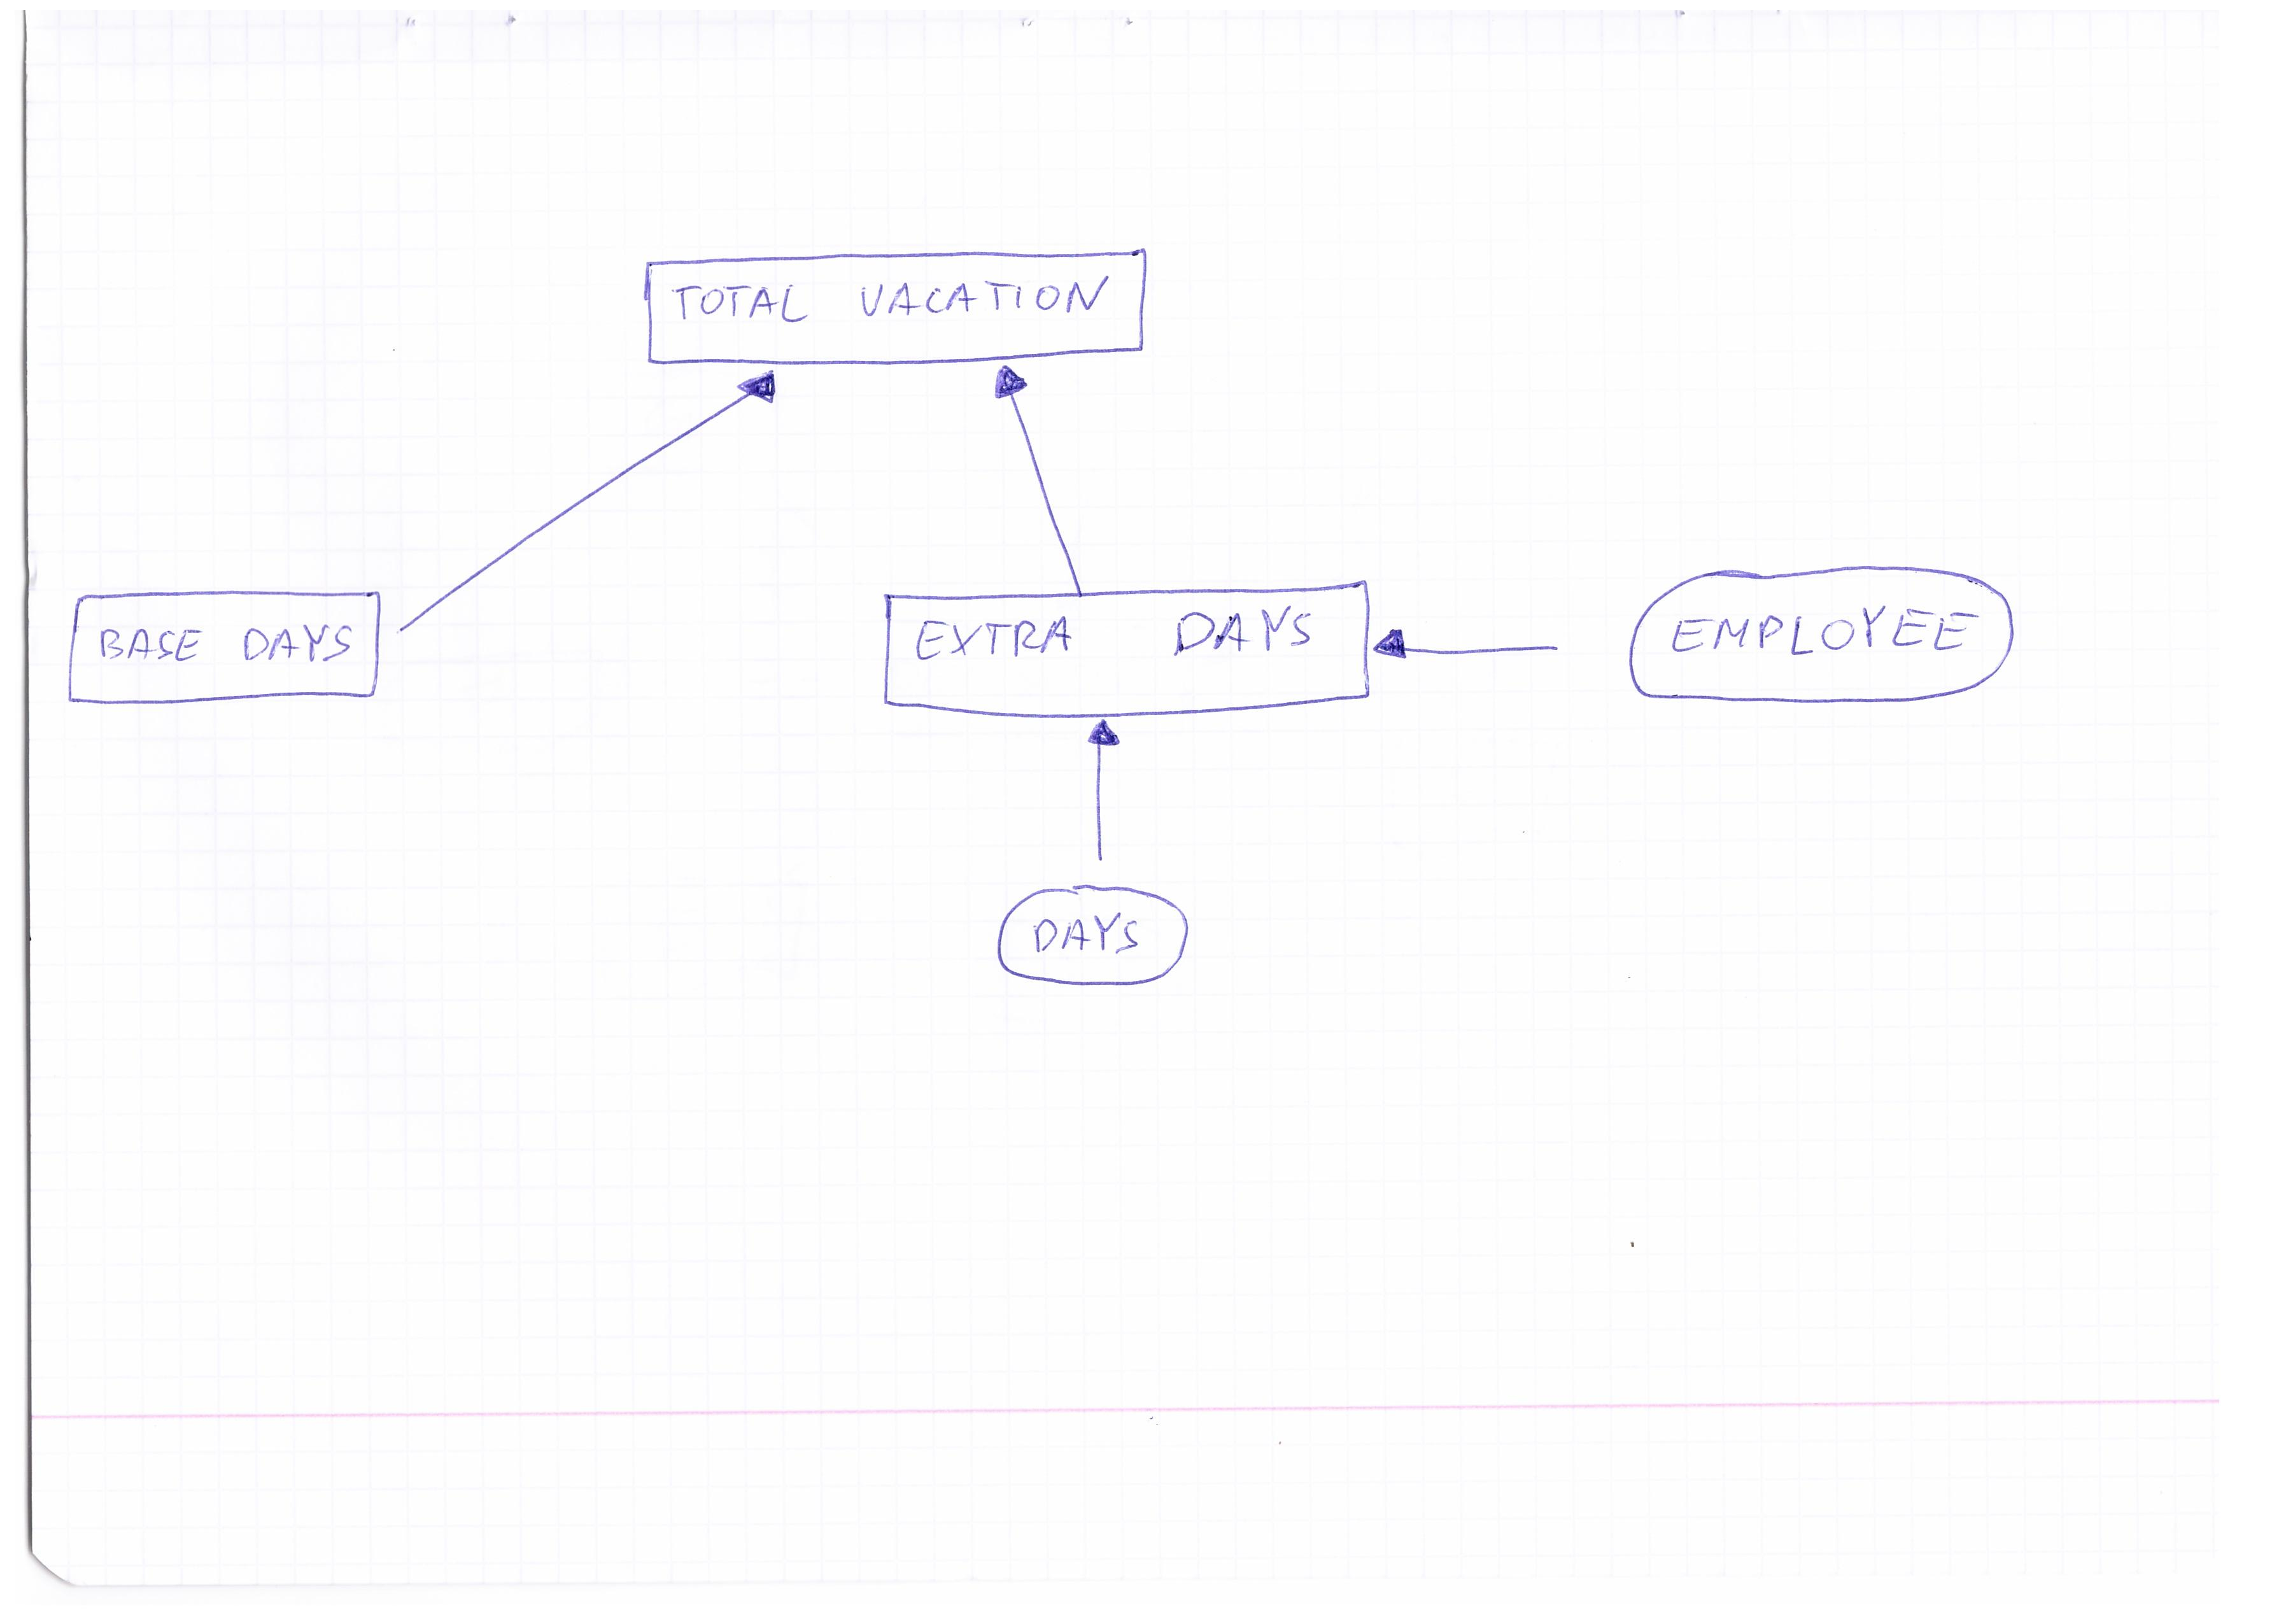arrow_information_requirement: (392, 364, 794, 643), (975, 360, 1098, 591), (1371, 620, 1576, 677), (1074, 712, 1130, 875)
node_decision: (870, 584, 1386, 719), (636, 253, 1149, 367), (58, 582, 383, 712)
node_input_data: (1610, 557, 2038, 728), (984, 879, 1219, 998)
text: (910, 605, 1330, 675), (666, 274, 1121, 330), (1668, 598, 1986, 673), (90, 613, 360, 673), (1023, 907, 1151, 965)
